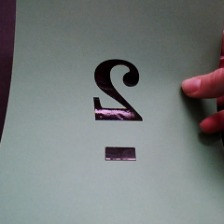green2: (85, 52, 150, 169)
